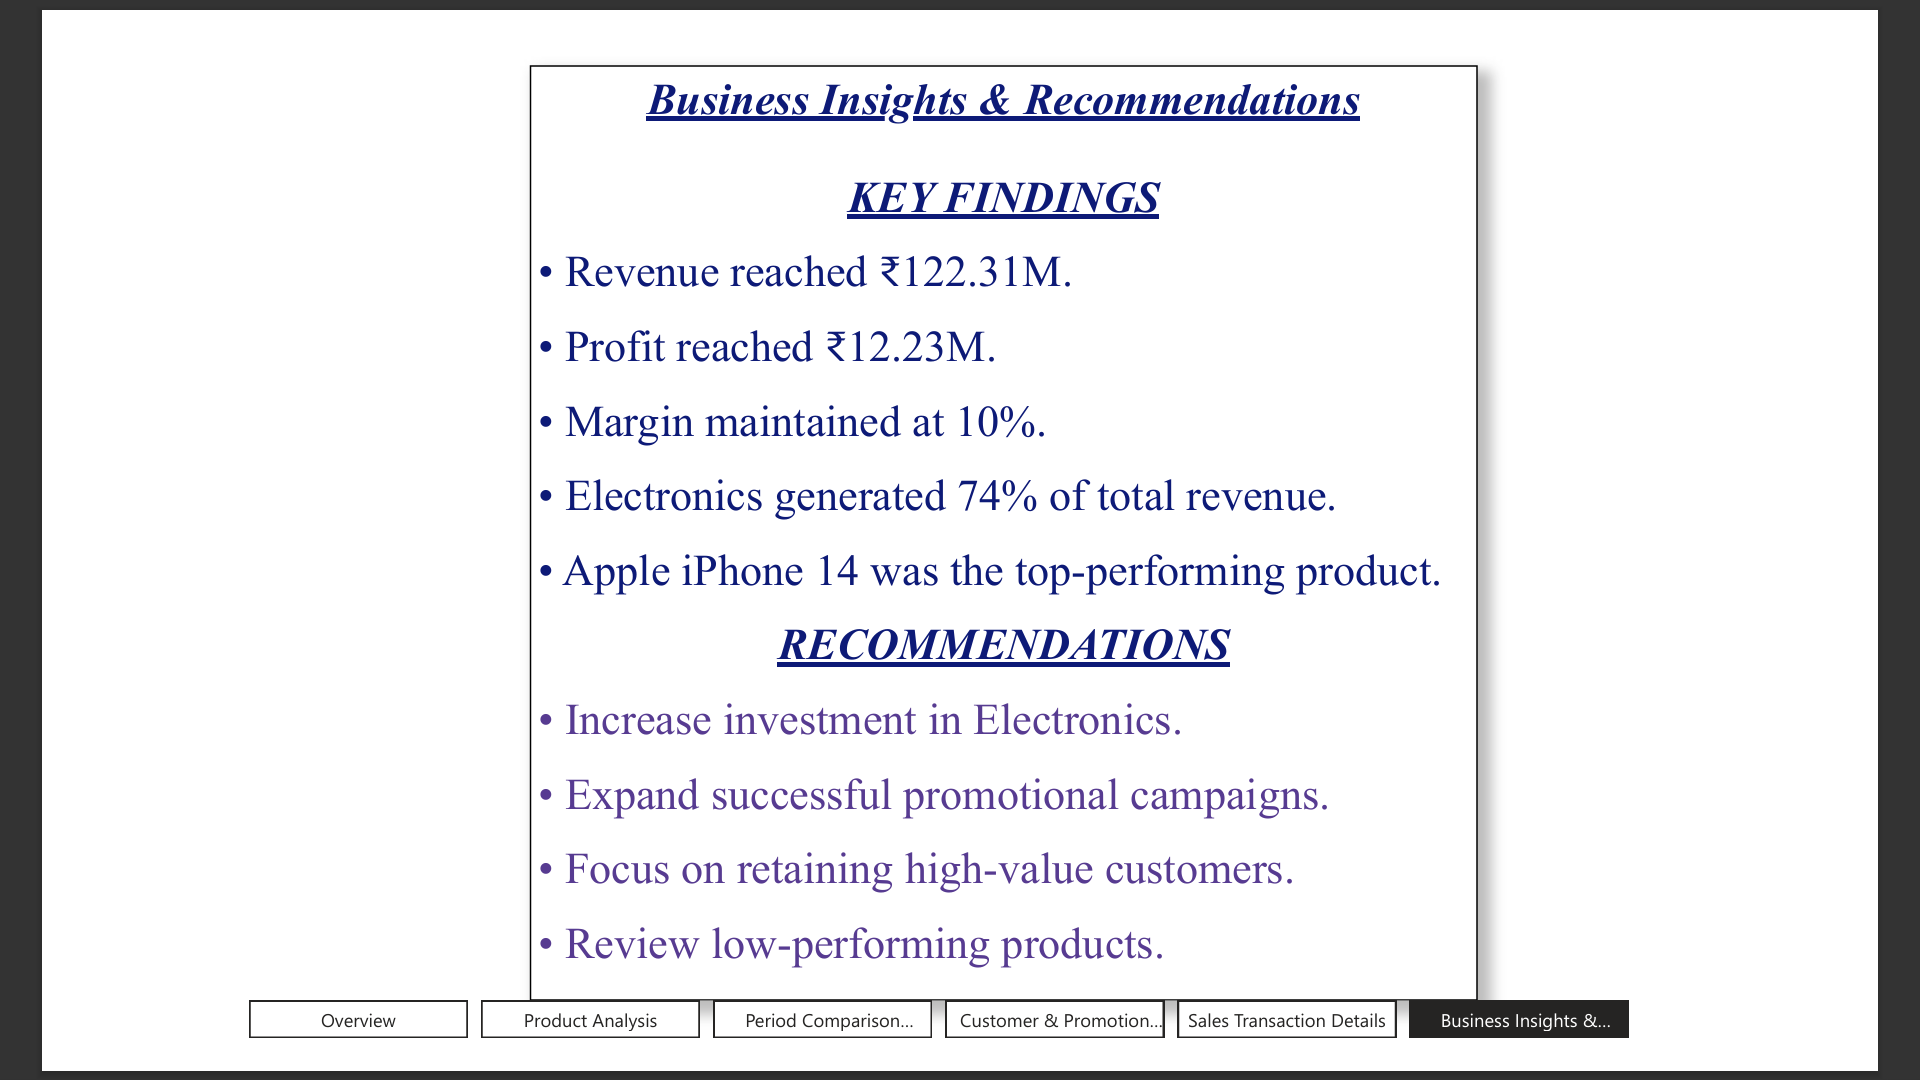

Layout of this report page (visuals, bound fields, positions):
{"tool":"powerbi","page":{"name":"Business Insights & Recommendations","canvas":[1280,720],"ordinal":5},"visuals":[{"type":"textbox","box":[329.3,16.5,686.1,676.5],"z":0},{"type":"pageNavigator","box":[126.2,693,1003.1,27.4],"z":1000}]}

Visuals, with their boxes on the page's 1280x720 design canvas (x1, y1, x2, y2). These are canvas units, not pixel positions in the 1920x1080 screenshot, which may show the page scaled, cropped or inside an application window:
textbox: 329:16:1015:693
pageNavigator: 126:693:1129:720
